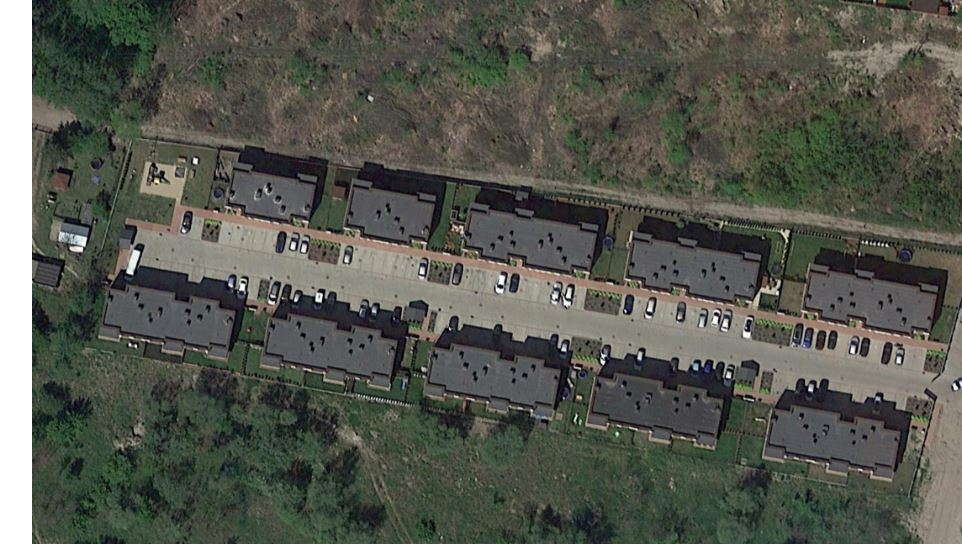block of flats: (758, 404, 906, 484), (459, 196, 607, 276), (616, 227, 764, 307), (795, 262, 943, 342), (95, 281, 236, 364), (258, 308, 399, 391), (421, 337, 562, 420), (585, 370, 726, 453), (219, 160, 320, 229), (339, 177, 440, 246)
